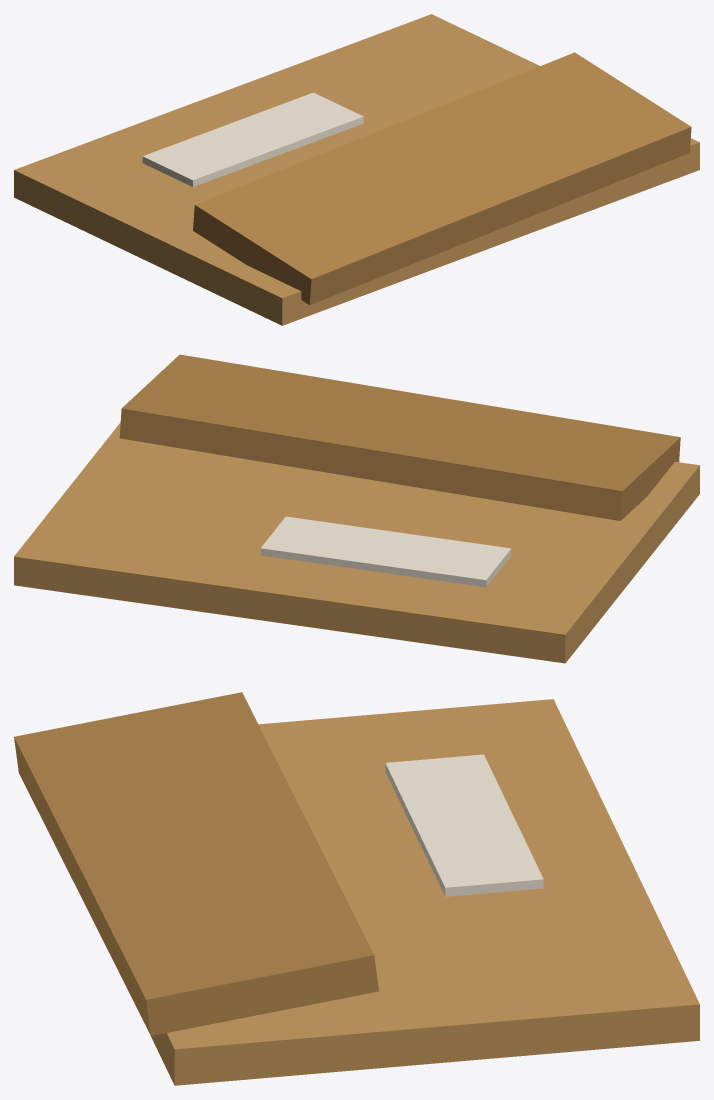
Rendered from waste_cardboard.fbx.
3 renders of one model, top to bottom at view 1: azimuth 30°, elevation 25°; view 2: azimuth 150°, elevation 25°; view 3: azimuth 270°, elevation 25°, orthographic. The views are drawn at different scales.
Visible parts, largest first — view 1: M__waste_cardboard; view 2: M__waste_cardboard; view 3: M__waste_cardboard.
Part boxes in pixels (x1=…): M__waste_cardboard: x1=14, y1=14, x2=699, y2=325; M__waste_cardboard: x1=14, y1=354, x2=699, y2=663; M__waste_cardboard: x1=14, y1=692, x2=699, y2=1085.
Size of the model in its own units: 0.2474 by 0.0324 by 0.2048.
